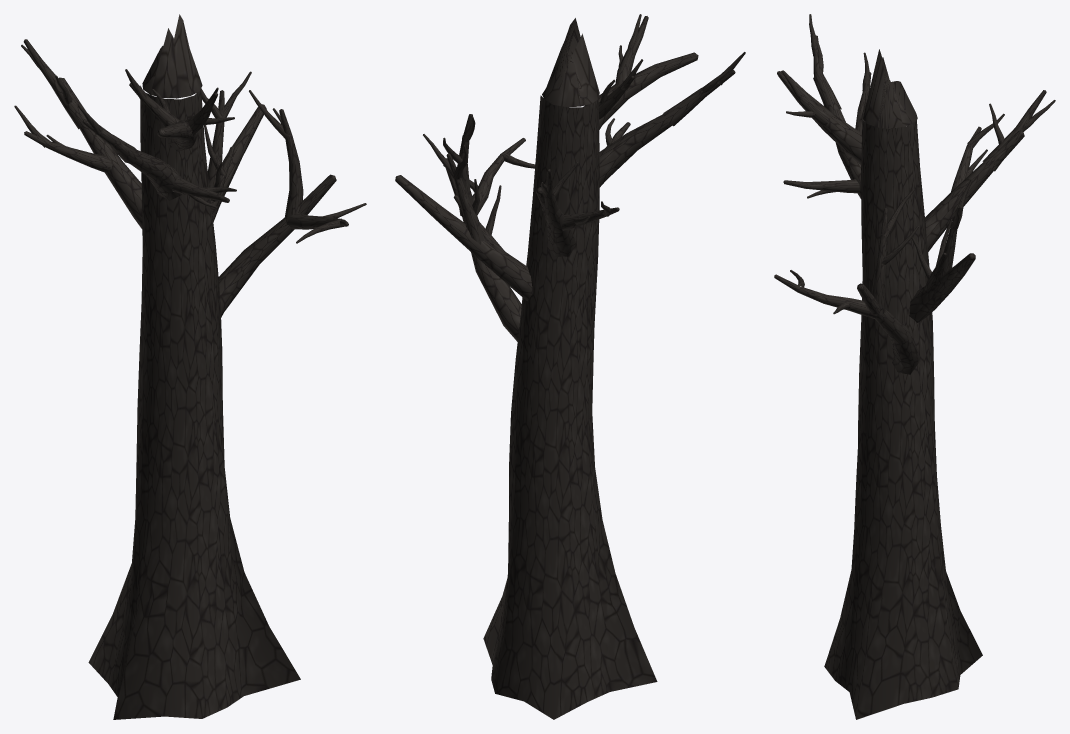
File: burnt_tree.glb
3 views of the same model, side by side, from view 1: azimuth 30°, elevation 25°; view 2: azimuth 150°, elevation 25°; view 3: azimuth 270°, elevation 25° (orthographic). The views are drawn at different scales.
Visible parts, largest first — view 1: burnt_tree; view 2: burnt_tree; view 3: burnt_tree.
Part boxes in pixels (left/top/right/bottom): burnt_tree: left=14, top=14, right=366, bottom=719; burnt_tree: left=395, top=14, right=745, bottom=719; burnt_tree: left=774, top=14, right=1055, bottom=719.
Bounding box in the file's own units: 2.87 × 6.2 × 2.54.
1 material, 1 textured.
